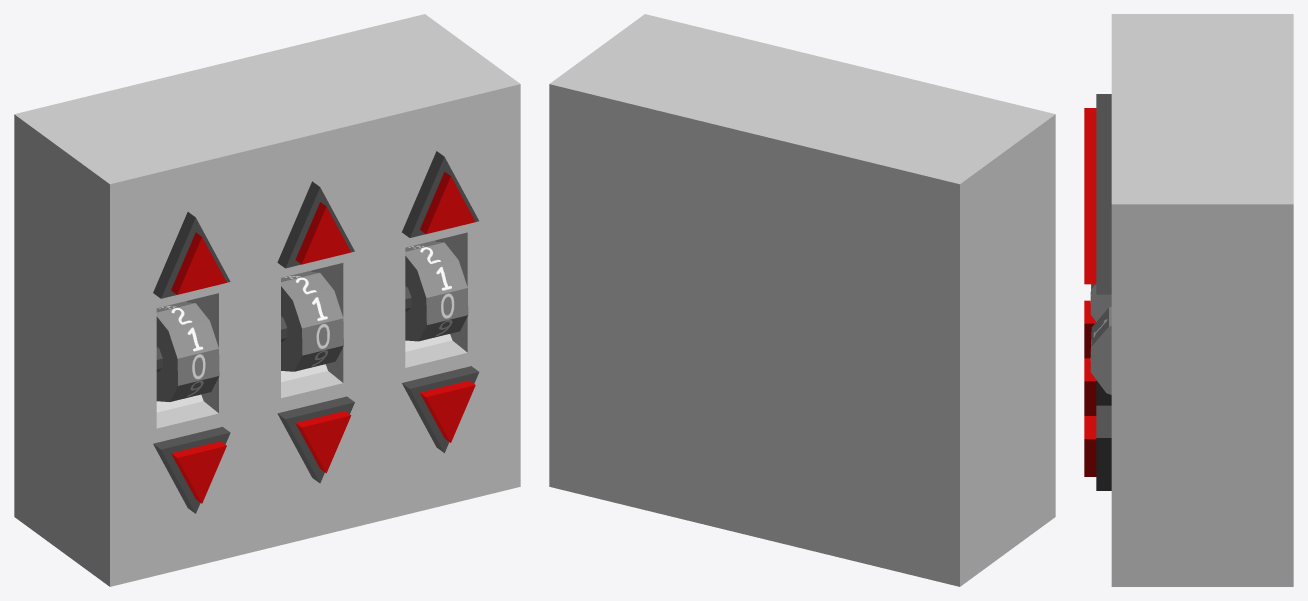
The model's file is Spin Puzzle.fbx.
3 renders of one model, left to right at view 1: azimuth 30°, elevation 25°; view 2: azimuth 150°, elevation 25°; view 3: azimuth 270°, elevation 25°, orthographic. The views are drawn at different scales.
Visible parts, largest first — view 1: Cube, Cylinder, Cylinder.005, Cylinder.002, Cube.004, Cube.007, Cube.001, Cube.006, Cube.011, Cube.003, Cube.009, Cube.010 (+4 smaller); view 2: Cube; view 3: Cube, Cylinder.005, Cube.008, Cube.012, Cube.005, Cube.002, Cube.007, Cube.011, Cube.006, Cube.001, Cube.009, Cylinder.002 (+1 smaller).
Part boxes in pixels (bbox=[...]): Cube: bbox=[14, 14, 520, 586]; Cylinder: bbox=[156, 302, 219, 401]; Cylinder.005: bbox=[405, 241, 468, 341]; Cylinder.002: bbox=[281, 271, 343, 371]; Cube.004: bbox=[171, 441, 226, 503]; Cube.007: bbox=[420, 171, 475, 234]; Cube.001: bbox=[171, 232, 226, 294]; Cube.006: bbox=[295, 202, 351, 264]; Cube.011: bbox=[420, 380, 475, 442]; Cube.003: bbox=[153, 427, 230, 513]; Cube.009: bbox=[295, 411, 351, 473]; Cube.010: bbox=[277, 396, 354, 483]; Cube: bbox=[549, 14, 1055, 586]; Cube: bbox=[1111, 14, 1293, 586]; Cylinder.005: bbox=[1090, 307, 1111, 394]; Cube.008: bbox=[1096, 209, 1111, 294]; Cube.012: bbox=[1096, 405, 1111, 490]; Cube.005: bbox=[1096, 151, 1111, 209]; Cube.002: bbox=[1096, 94, 1111, 151]; Cube.007: bbox=[1084, 223, 1096, 284]; Cube.011: bbox=[1084, 416, 1096, 476]; Cube.006: bbox=[1084, 165, 1096, 223]; Cube.001: bbox=[1084, 108, 1096, 165]; Cube.009: bbox=[1084, 358, 1096, 415]; Cylinder.002: bbox=[1090, 284, 1111, 321].
Bounding box in the file's own units: 495 × 464 × 230.
Materials: 15 (3 with a texture image).
